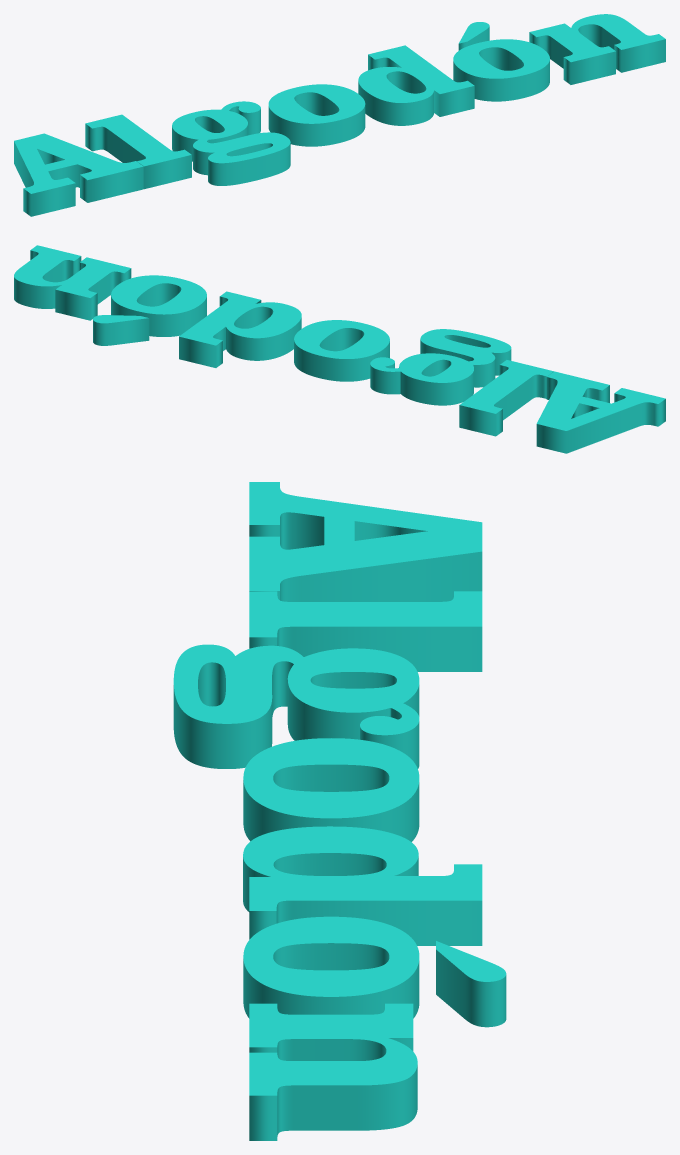
The model's file is CottonTxt.fbx.
3 views of the same model, one above another, from view 1: azimuth 30°, elevation 25°; view 2: azimuth 150°, elevation 25°; view 3: azimuth 270°, elevation 25° (orthographic). The views are drawn at different scales.
Parts seen in each view (by area): view 1: Text; view 2: Text; view 3: Text.
Part boxes in pixels (bbox=[...]): Text: bbox=[14, 14, 665, 216]; Text: bbox=[14, 245, 665, 453]; Text: bbox=[173, 482, 506, 1140].
Bounding box in the file's own units: 411 × 14.12 × 94.02.
